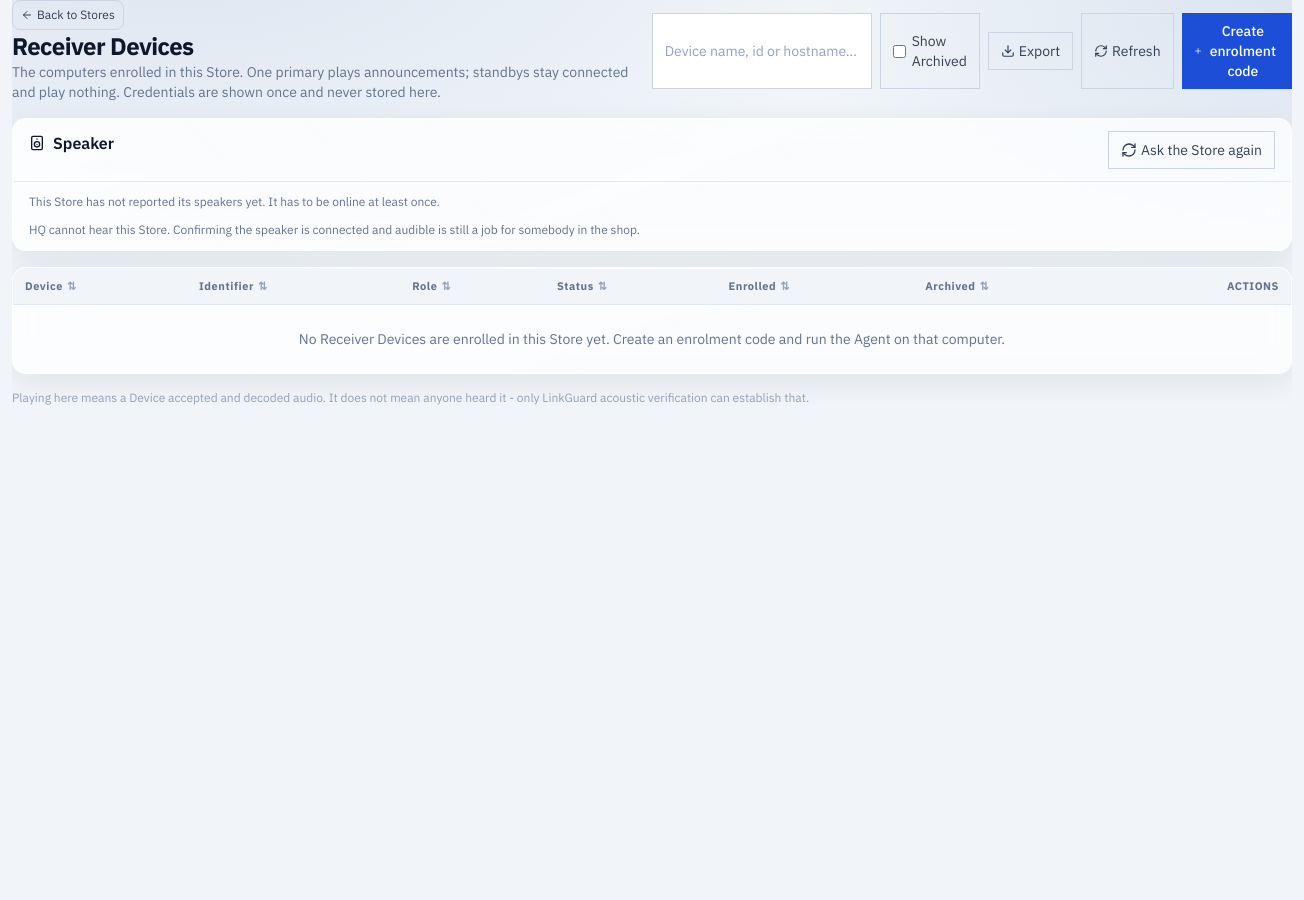
Scenario: the code is shown with its length, so a short copy is visible
Click the button with test id "create-enrolment-code-btn" at (1237, 51), box [1182, 13, 1292, 89]
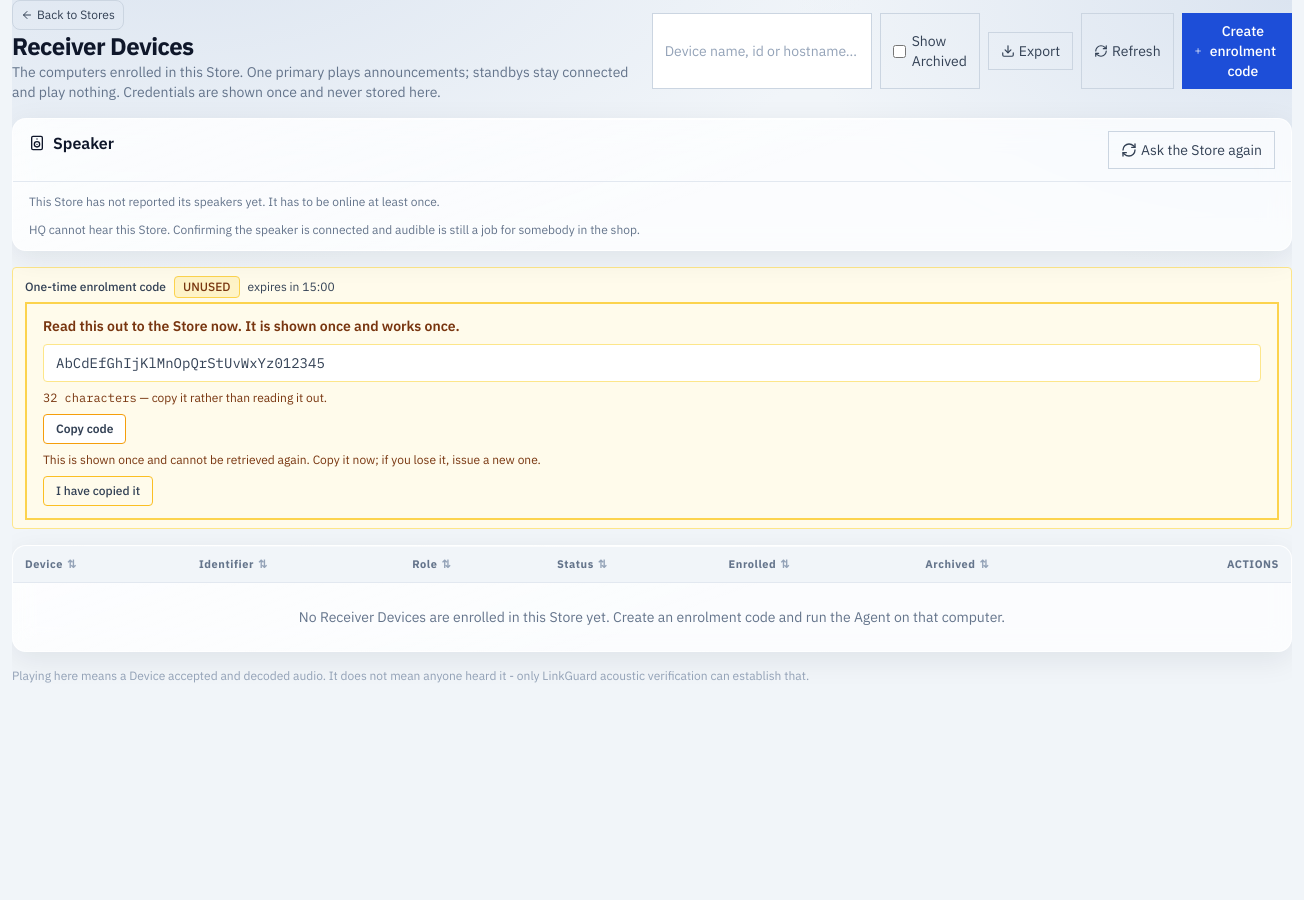
expect the text with test id "issued-enrolment-code-length" reads "32 characters": met, box [43, 390, 137, 405]
